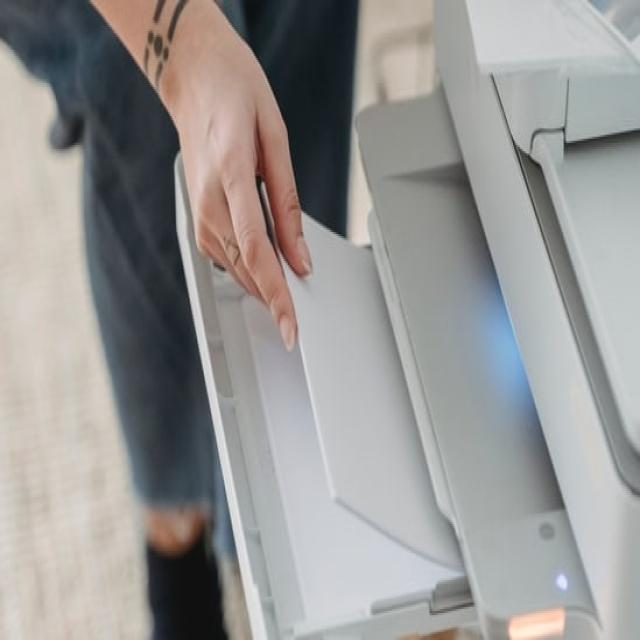printer: (171, 0, 639, 638)
